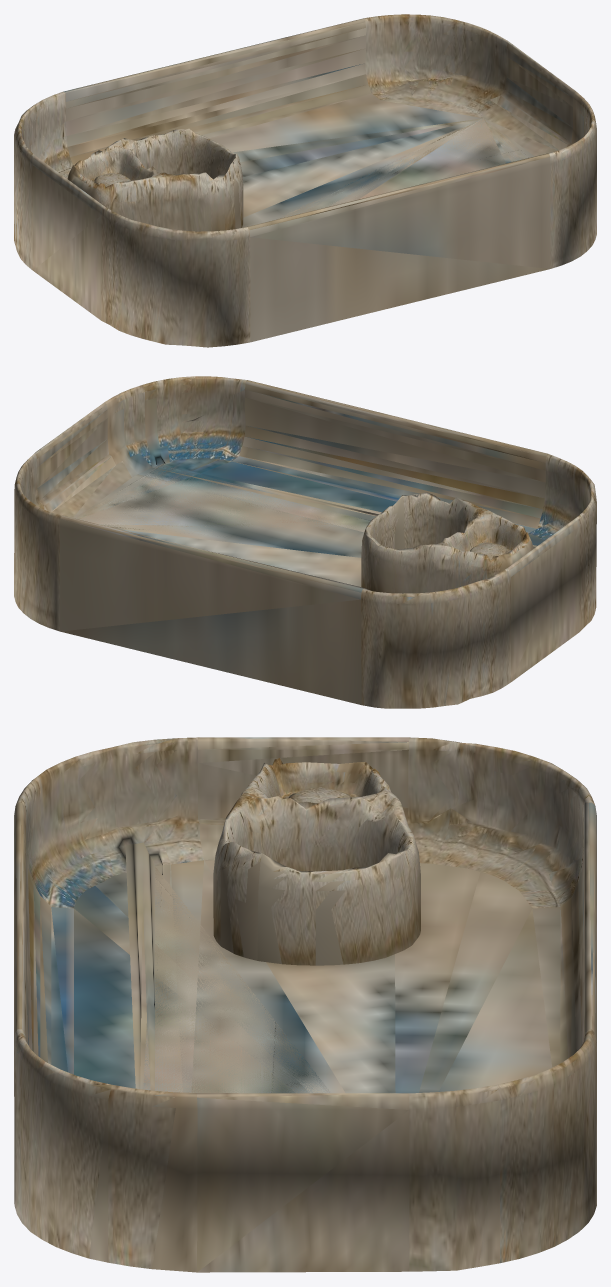
The model's file is food-sardines.glb.
3 views of the same model, one above another, from view 1: azimuth 30°, elevation 25°; view 2: azimuth 150°, elevation 25°; view 3: azimuth 270°, elevation 25° (orthographic). The views are drawn at different scales.
Parts seen in each view (by area): view 1: food-sardines; view 2: food-sardines; view 3: food-sardines.
Part boxes in pixels (bbox=[...]): food-sardines: bbox=[14, 14, 596, 347]; food-sardines: bbox=[14, 376, 596, 708]; food-sardines: bbox=[14, 737, 596, 1272].
Bounding box in the file's own units: 0.11 × 0.025 × 0.075.
1 material, 1 textured.
